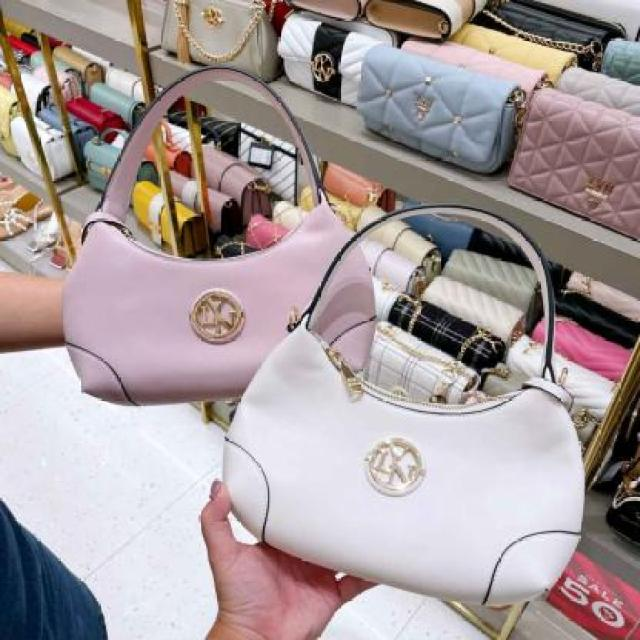Bag: (205, 192, 604, 622), (43, 44, 415, 438), (354, 34, 540, 203), (503, 76, 640, 235), (266, 10, 414, 104), (165, 0, 288, 78)
